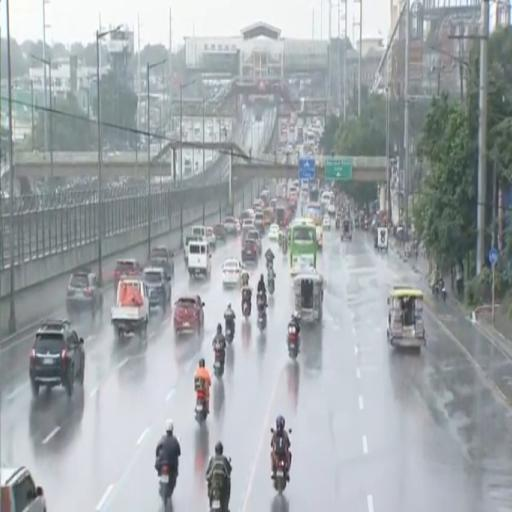bus: (289, 219, 317, 275), (303, 203, 323, 226)
car: (30, 319, 85, 396), (0, 467, 46, 511), (66, 268, 103, 318), (144, 267, 171, 311), (174, 295, 204, 334), (114, 259, 142, 293), (149, 246, 174, 277), (222, 259, 242, 286), (145, 259, 173, 278), (241, 239, 258, 263), (246, 230, 261, 255), (213, 223, 226, 242), (224, 217, 237, 234), (254, 211, 264, 232), (206, 228, 216, 248), (268, 224, 279, 241), (241, 218, 255, 230), (240, 210, 253, 221), (322, 216, 331, 230), (328, 203, 335, 215), (236, 219, 241, 234)
motorcycle: (159, 464, 176, 509), (209, 485, 228, 511), (274, 458, 288, 493), (288, 325, 299, 359), (195, 396, 208, 424), (210, 486, 224, 511), (257, 294, 266, 330), (214, 350, 225, 378), (433, 280, 446, 301), (242, 294, 251, 319), (225, 320, 234, 344), (258, 310, 266, 331), (268, 276, 274, 295), (282, 238, 287, 254), (266, 259, 272, 270), (336, 218, 340, 230)
truck: (111, 278, 149, 339)
